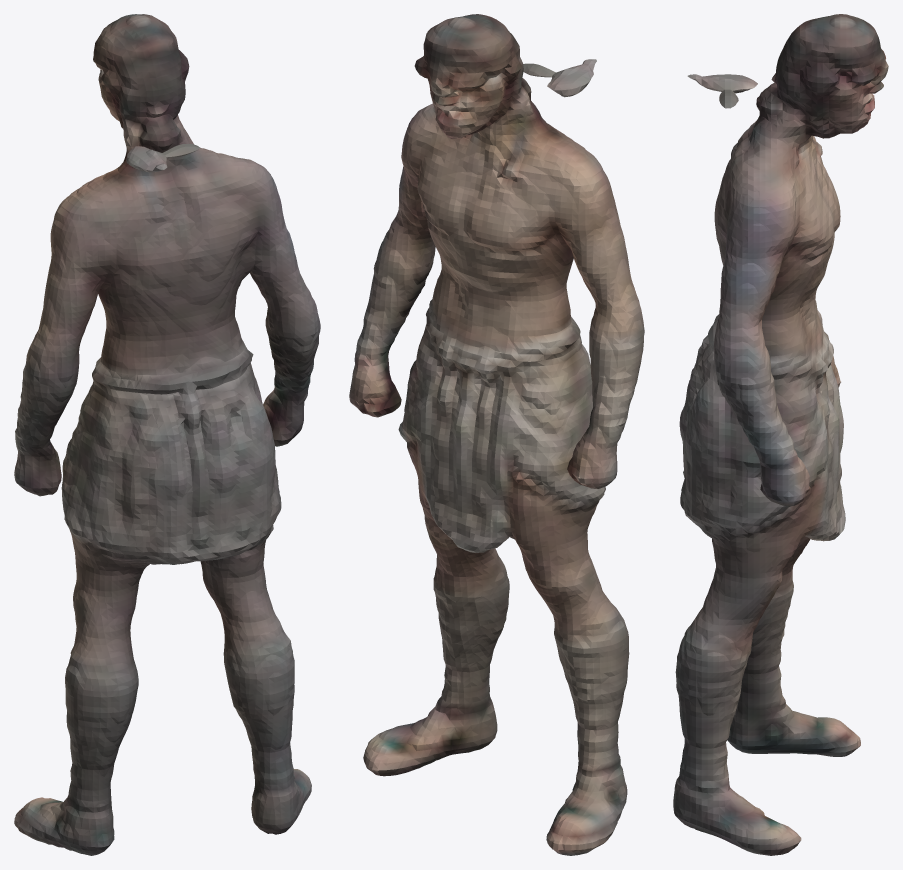
File: boy_0.low.glb
3 views of the same model, side by side, from view 1: azimuth 30°, elevation 25°; view 2: azimuth 150°, elevation 25°; view 3: azimuth 270°, elevation 25° (orthographic). The views are drawn at different scales.
Visible parts, largest first — view 1: world; view 2: world; view 3: world.
Part boxes in pixels (x1,y1,x2,y2): world: (14, 14, 320, 855); world: (349, 14, 644, 855); world: (673, 14, 888, 855).
Bounding box in the file's own units: 0.3761 × 1.02 × 0.2543.
